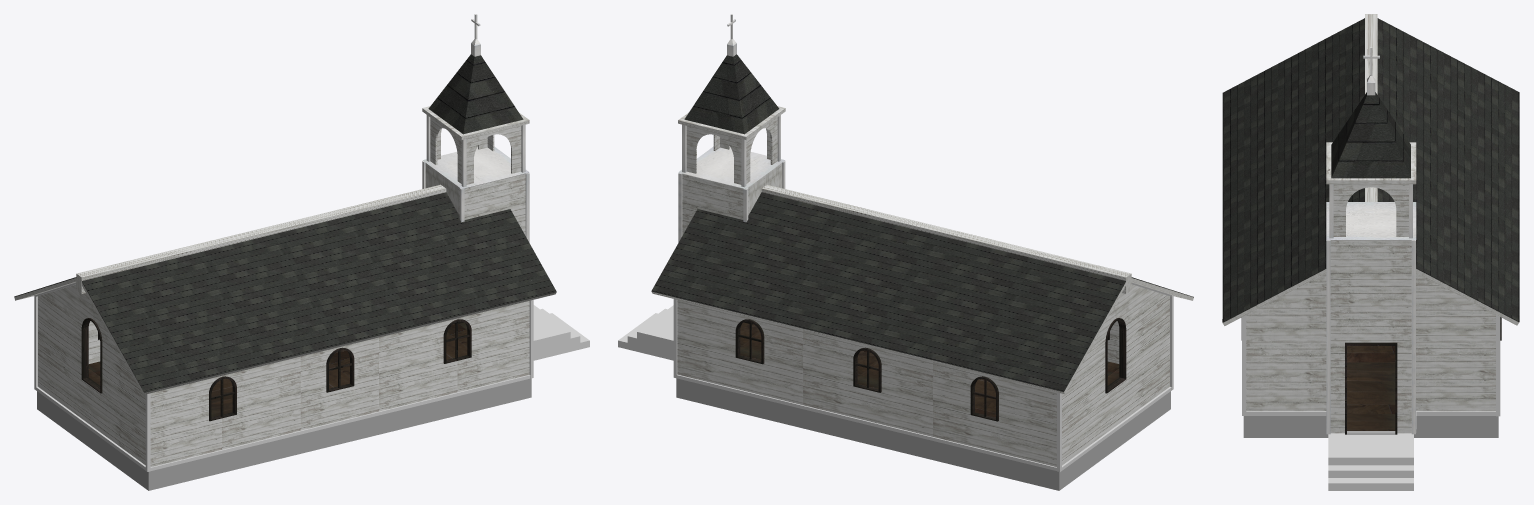
The model's file is church_greyscale_sean_edit.fbx.
3 views of the same model, side by side, from view 1: azimuth 30°, elevation 25°; view 2: azimuth 150°, elevation 25°; view 3: azimuth 270°, elevation 25° (orthographic). The views are drawn at different scales.
Parts seen in each view (by area): view 1: right tiles, right wall.002, floor.001, back wall, tower roof.001, roof support beam, tower right wall, steeple flat, right bottom outerrail, step 3, right roof, floor (+7 smaller); view 2: left shingles, left wall, floor.001, back wall, tower roof.001, roof support beam, Tower left wall, steeple flat, left bottom outerrail, step 3, left roof, floor (+7 smaller); view 3: right tiles, left shingles, tower back wall, back right wall, back left wall, tower roof.001, floor.001, floor, step 3, steeple flat, steeple arch 3, step 2 (+13 smaller).
Boxes of the visible parts, x1,y1,x2,y2 form: right tiles: [82, 192, 556, 392]; right wall.002: [150, 301, 529, 466]; floor.001: [37, 378, 531, 490]; back wall: [38, 294, 145, 464]; tower roof.001: [428, 54, 523, 134]; roof support beam: [76, 184, 446, 293]; tower right wall: [464, 174, 525, 235]; steeple flat: [422, 147, 529, 188]; right bottom outerrail: [150, 375, 530, 470]; step 3: [533, 305, 570, 360]; right roof: [82, 282, 556, 394]; floor: [329, 324, 467, 388]; left shingles: [651, 192, 1125, 391]; left wall: [677, 300, 1056, 466]; floor.001: [676, 378, 1170, 490]; back wall: [1062, 294, 1169, 465]; tower roof.001: [684, 54, 779, 134]; roof support beam: [761, 184, 1131, 293]; Tower left wall: [682, 174, 743, 235]; steeple flat: [678, 146, 785, 188]; left bottom outerrail: [676, 374, 1056, 470]; step 3: [637, 305, 673, 360]; left roof: [652, 282, 1125, 394]; floor: [740, 324, 878, 388]; right tiles: [1222, 18, 1364, 322]; left shingles: [1377, 18, 1519, 322]; tower back wall: [1330, 240, 1411, 433]; back right wall: [1246, 273, 1326, 411]; back left wall: [1416, 273, 1495, 411]; tower roof.001: [1331, 92, 1410, 178]; floor.001: [1243, 416, 1498, 437]; floor: [1347, 346, 1395, 414]; step 3: [1328, 433, 1413, 465]; steeple flat: [1326, 202, 1416, 240]; steeple arch 3: [1333, 184, 1408, 236]; step 2: [1328, 465, 1413, 477].
Bounding box in the file's own units: 2364 × 1570 × 1083.
